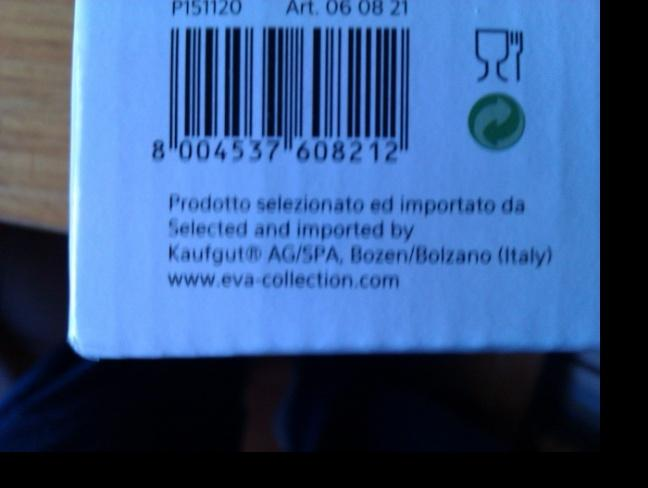Barcode: (136, 19, 434, 174)
